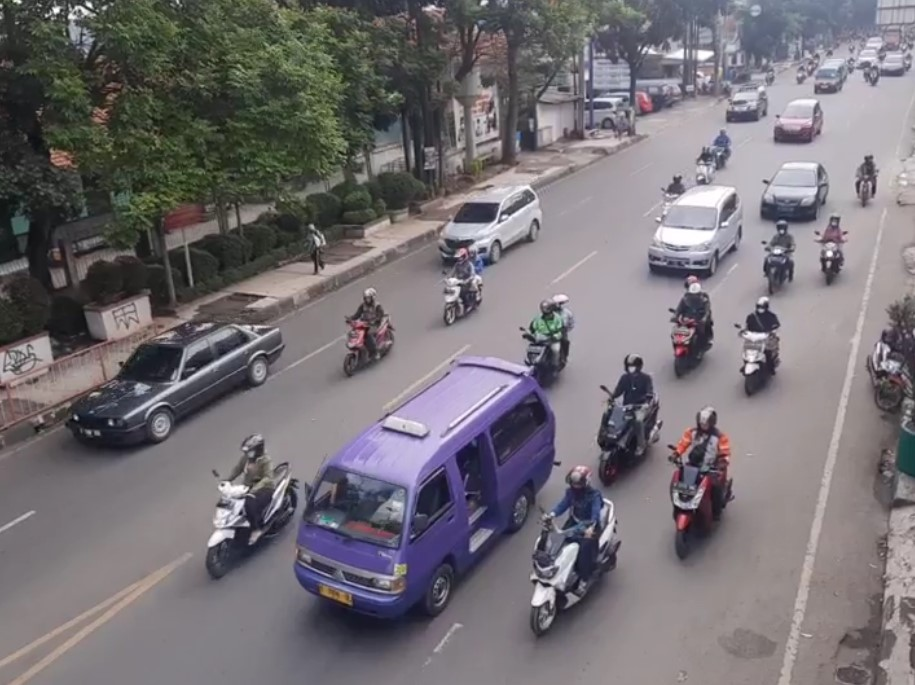motor: (526, 484, 621, 645), (200, 436, 295, 576), (666, 411, 741, 565), (592, 355, 667, 488), (518, 290, 579, 390), (666, 277, 718, 381), (734, 301, 787, 391), (429, 241, 483, 318), (340, 288, 392, 366), (812, 212, 854, 284), (761, 221, 799, 293)
